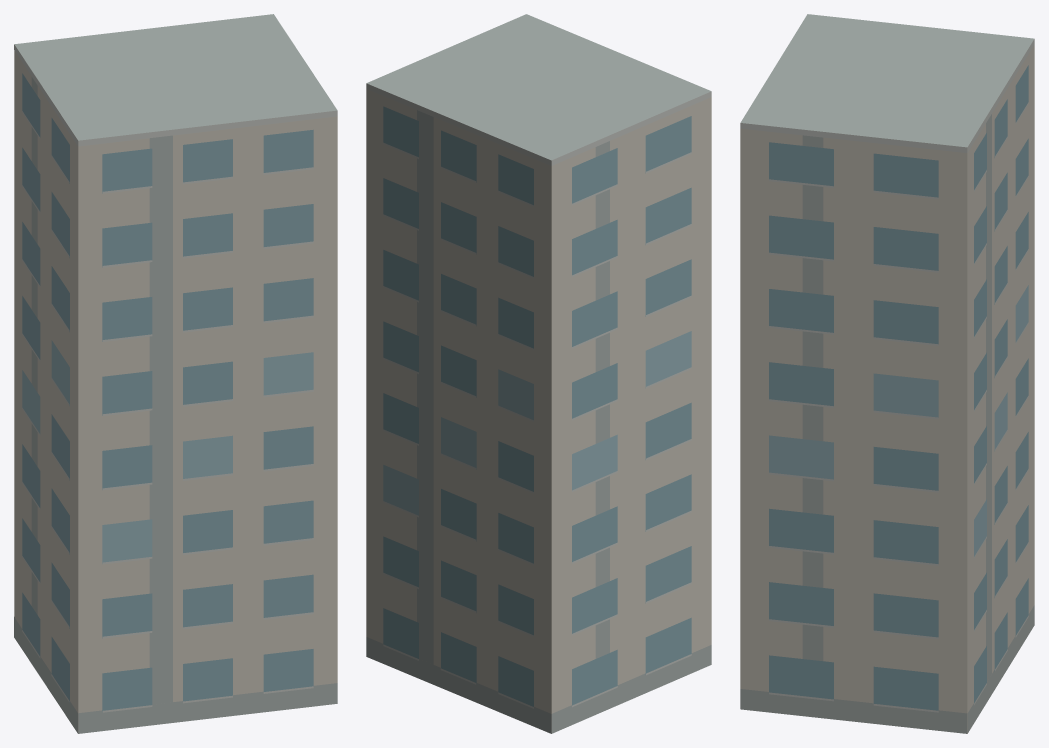
The model's file is survey-upis-32876988.glb.
3 renders of one model, left to right at view 1: azimuth 30°, elevation 25°; view 2: azimuth 150°, elevation 25°; view 3: azimuth 270°, elevation 25°, orthographic. The views are drawn at different scales.
Parts seen in each view (by area): view 1: survey-upis-32876988.tmp; view 2: survey-upis-32876988.tmp; view 3: survey-upis-32876988.tmp.
Part boxes in pixels (x1,y1,x2,y2): survey-upis-32876988.tmp: (14,14,337,733); survey-upis-32876988.tmp: (366,14,711,733); survey-upis-32876988.tmp: (740,14,1034,733).
Bounding box in the file's own units: 12.11 × 24.8 × 11.29.
